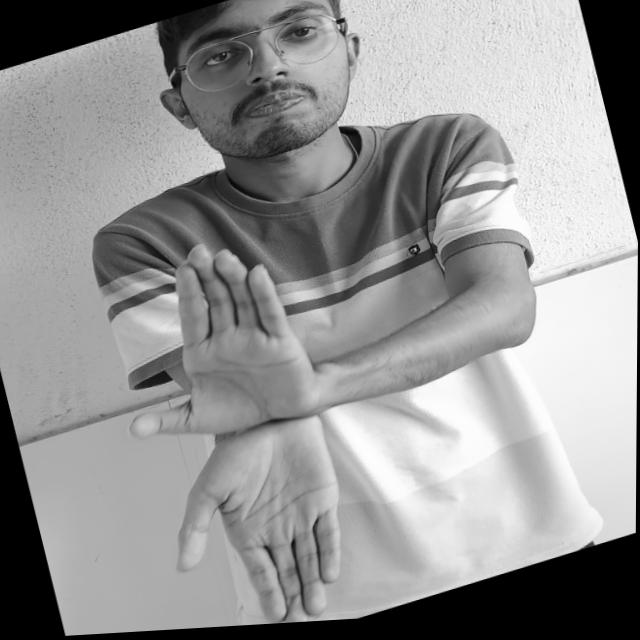Morning: (82, 185, 432, 636)
